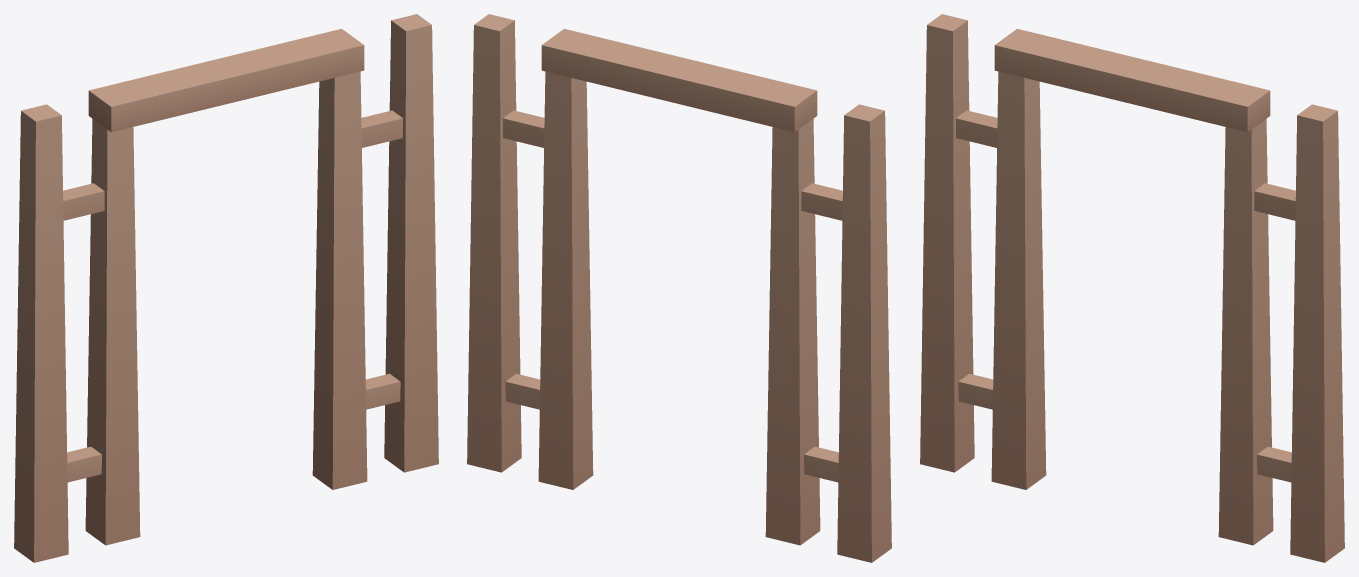
The model's file is fence-doorway.glb.
The picture shows the model from 3 angles, left to right: view 1: azimuth 30°, elevation 25°; view 2: azimuth 150°, elevation 25°; view 3: azimuth 330°, elevation 25°; orthographic projection.
Parts seen in each view (by area): view 1: fence-doorway, Group; view 2: fence-doorway, Group; view 3: fence-doorway, Group.
Part boxes in pixels (x1,y1,x2,y2): fence-doorway: (14, 14, 438, 562); Group: (88, 28, 364, 132); fence-doorway: (467, 14, 891, 562); Group: (541, 28, 817, 132); fence-doorway: (920, 14, 1344, 562); Group: (994, 28, 1270, 132).
Size of the model in its own units: 0.5 by 0.5175 by 0.0481.
